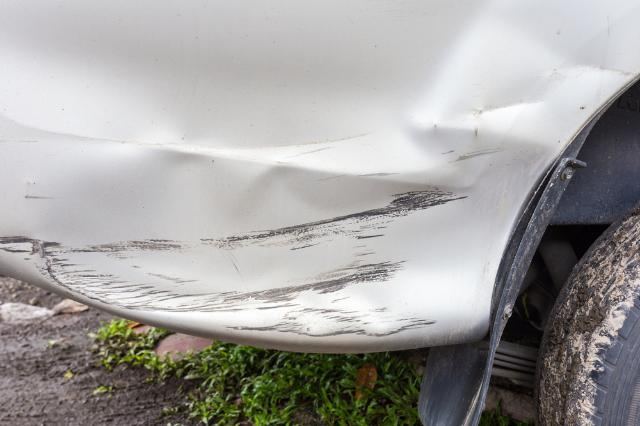dent: (0, 0, 588, 348)
